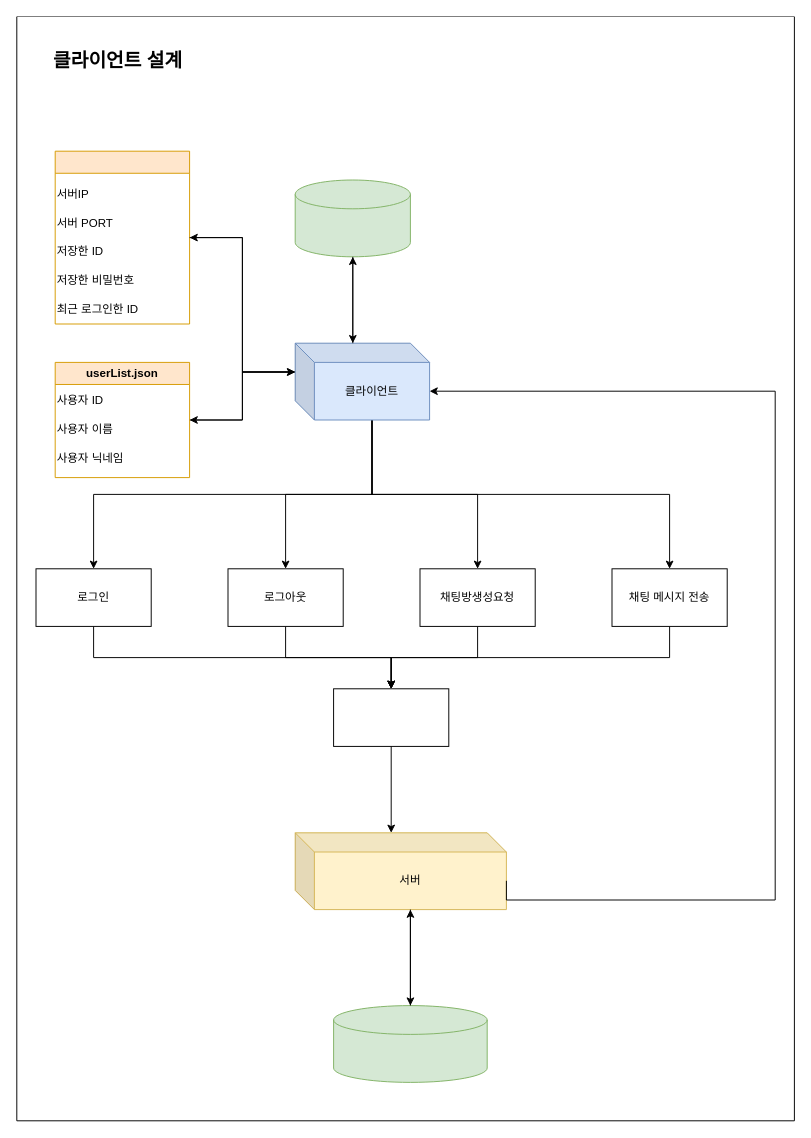
This 811x1138 diagram has some shape labels left out. Here are the shapes that lost their labels. From the top down, the box of each, then its label:
(54, 150, 190, 324): config.json
(294, 179, 410, 257): 클라이언트 DB
(333, 688, 449, 746): Packet
(333, 1005, 487, 1082): 서버 DB
